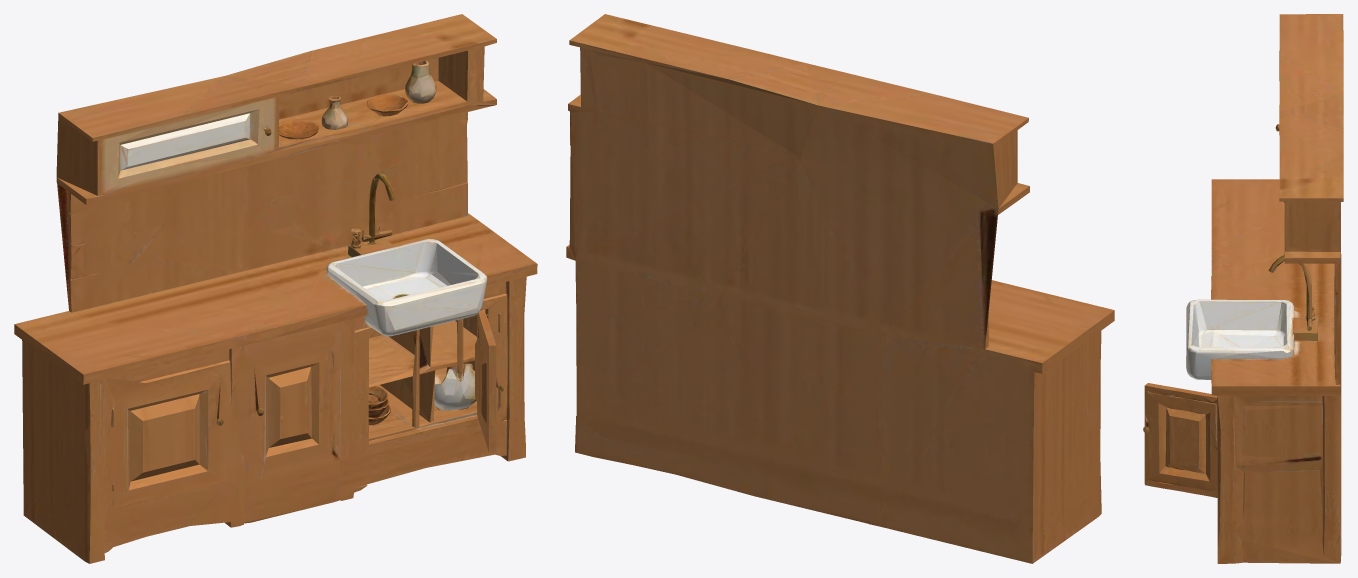
The model's file is kitchen_sink.glb.
3 renders of one model, left to right at view 1: azimuth 30°, elevation 25°; view 2: azimuth 150°, elevation 25°; view 3: azimuth 270°, elevation 25°, orthographic. The views are drawn at different scales.
Bounding box in the file's own units: 1.9 × 1.57 × 0.7772.
1 material, 1 textured.
